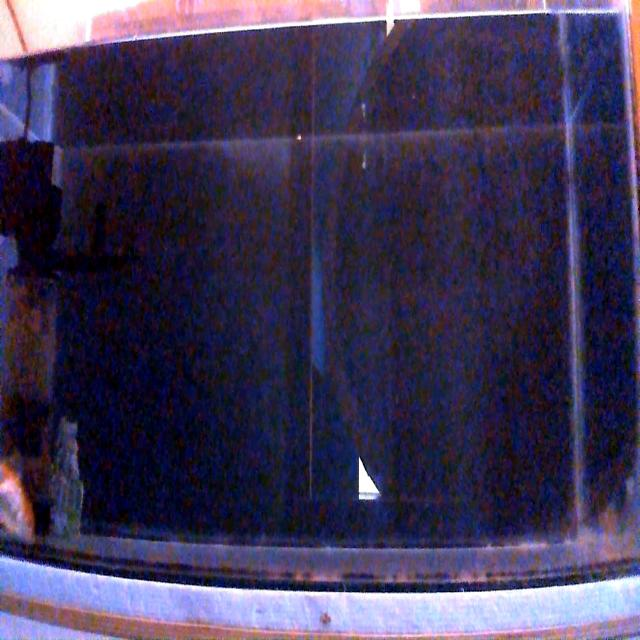fish: (0, 462, 35, 541)
